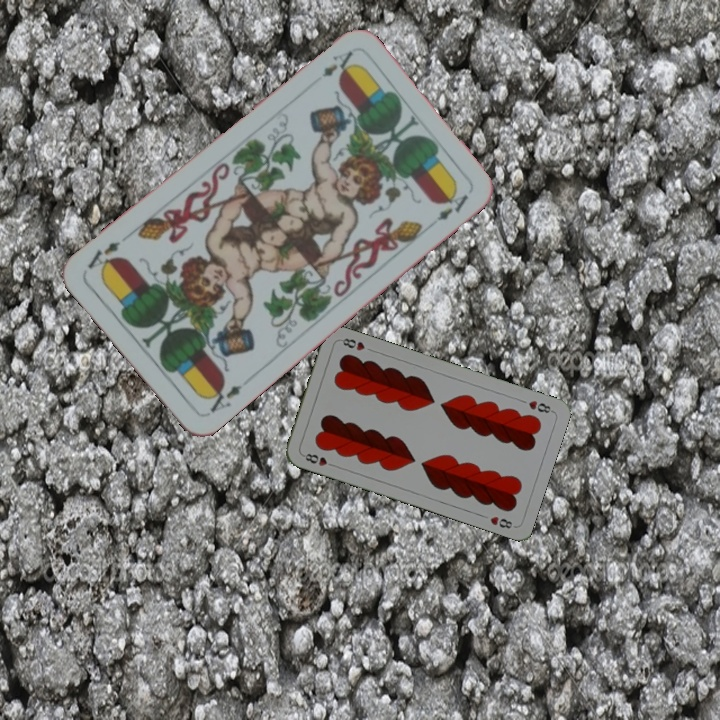EA: (202, 378, 245, 415), (317, 46, 356, 80)
H8: (299, 449, 338, 469), (524, 396, 555, 416)
